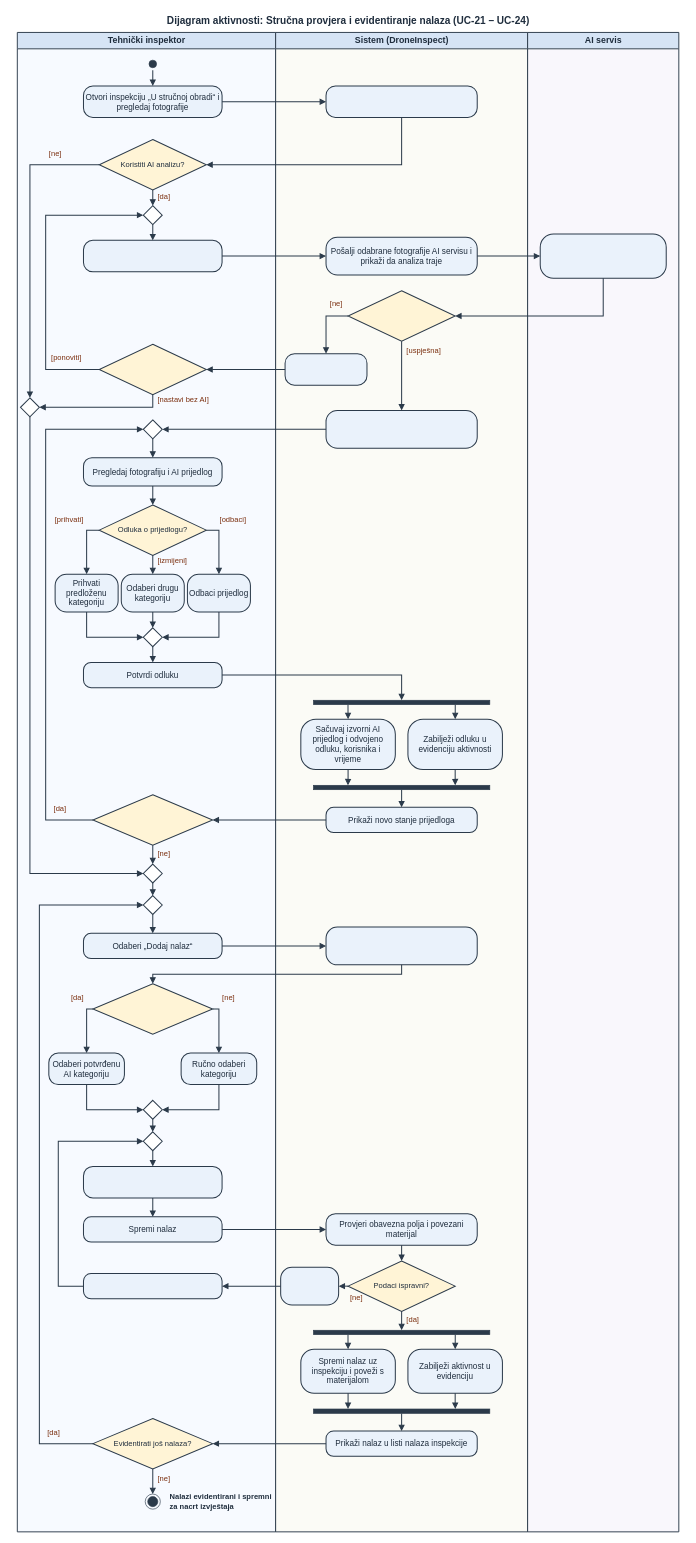
Image size: 696x1543. Some labels were removed from this diagram. Each missing label, with the centre of its shape:
"Analiza uspješna?" goes at point (401, 315).
"Analiziraj fotografije i vrati preliminarnu kategoriju za svaku" goes at point (602, 255).
"Ispravi podatke nalaza" goes at point (152, 1286).
"Još neprovjerenih prijedloga?" goes at point (152, 819).
"Odaberi fotografije i pokreni AI analizu" goes at point (152, 256).
"Ponoviti analizu?" goes at point (152, 369).
"Postoji potvrđena AI kategorija?" goes at point (152, 1008).
"Prikaži formu nalaza i ponudi samo prihvaćene ili izmijenjene AI kategorije" goes at point (401, 945).
"Prikaži fotografije i materijal inspekcije" goes at point (401, 101).
"Prikaži greške u formi" goes at point (309, 1285).
"Prikaži poruku o grešci" goes at point (325, 369).
"Spremi prijedloge kao neprovjerene i prikaži ih kao „Preliminarni AI prijedlog“" goes at point (401, 429).
"Unesi opis i poveži nalaz s fotografijama inspekcije" goes at point (152, 1182).
